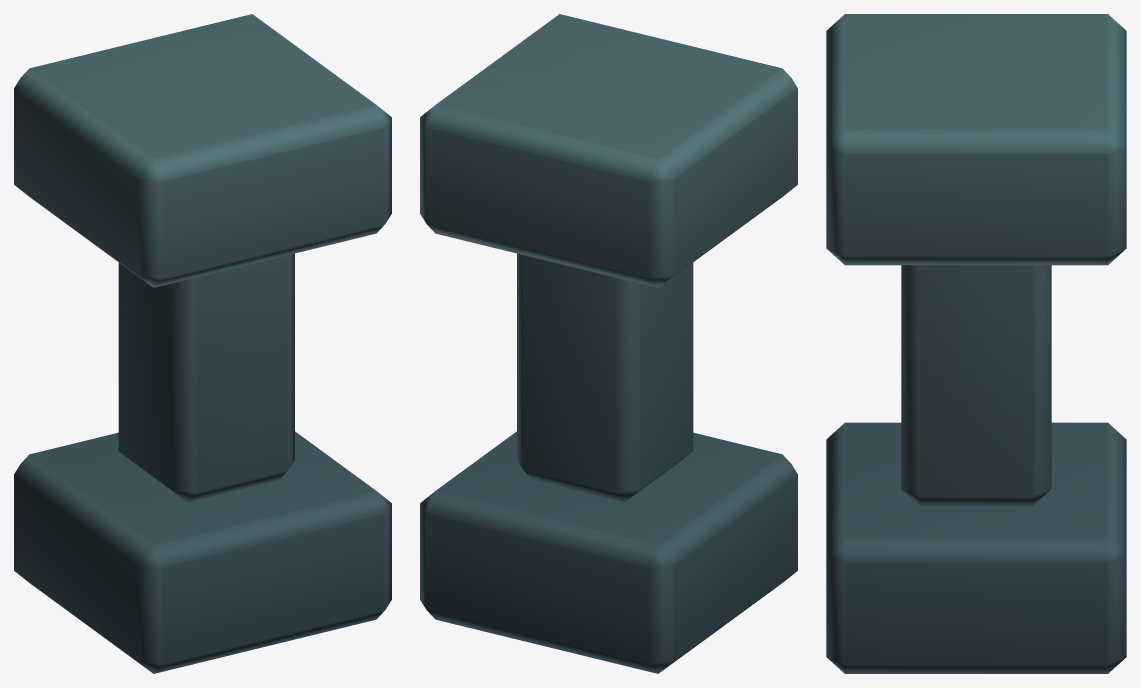
File: fence_01_half_hue_2.fbx
The picture shows the model from 3 angles, left to right: view 1: azimuth 30°, elevation 25°; view 2: azimuth 150°, elevation 25°; view 3: azimuth 270°, elevation 25°; orthographic projection. The views are drawn at different scales.
Parts seen in each view (by area): view 1: fence_01_half_hue_2; view 2: fence_01_half_hue_2; view 3: fence_01_half_hue_2.
Part boxes in pixels (box(x1,y1,x2,y2)): fence_01_half_hue_2: box(14, 14, 391, 673); fence_01_half_hue_2: box(420, 14, 797, 673); fence_01_half_hue_2: box(826, 14, 1126, 673).
Size of the model in its own units: 51.56 by 100 by 50.
